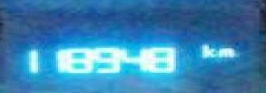1: (22, 45, 37, 72), (53, 48, 64, 73)
4: (120, 46, 144, 71)
8: (64, 45, 91, 74), (146, 45, 173, 72)
9: (91, 45, 120, 72)
X: (198, 41, 216, 56), (216, 47, 236, 57)
